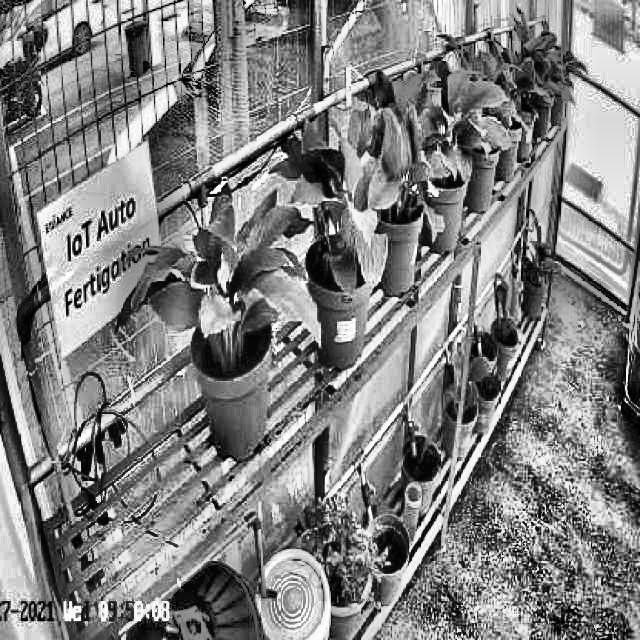plants: (114, 181, 320, 364), (277, 132, 388, 302), (348, 91, 446, 262), (402, 52, 521, 191)
